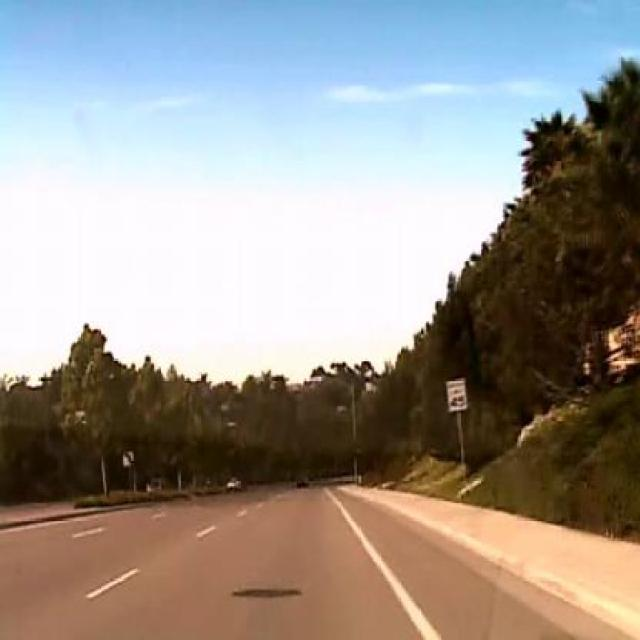speedLimit45: (446, 375, 469, 412)
